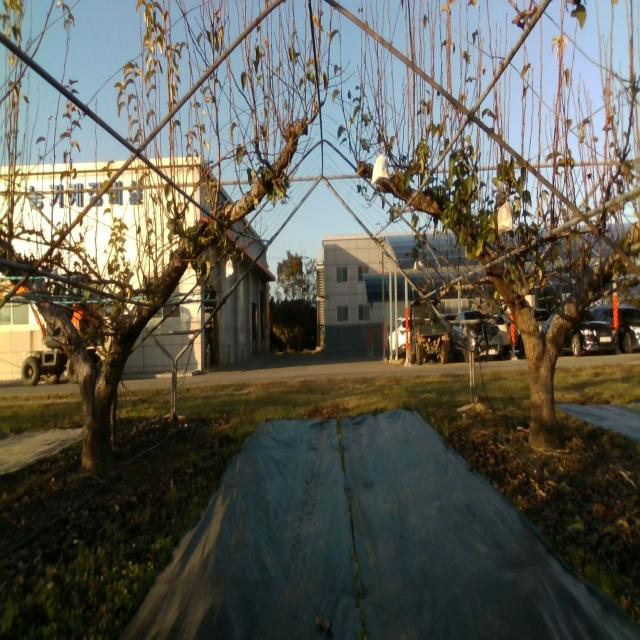pearbags: (497, 196, 514, 238), (370, 152, 390, 185)
